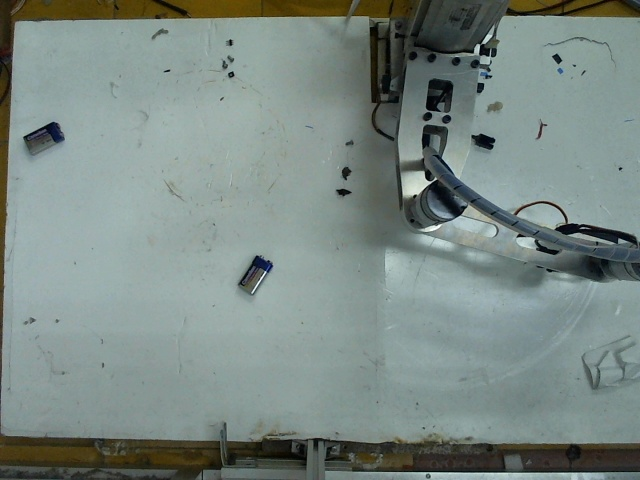battery: (18, 116, 67, 157), (236, 251, 274, 293)
